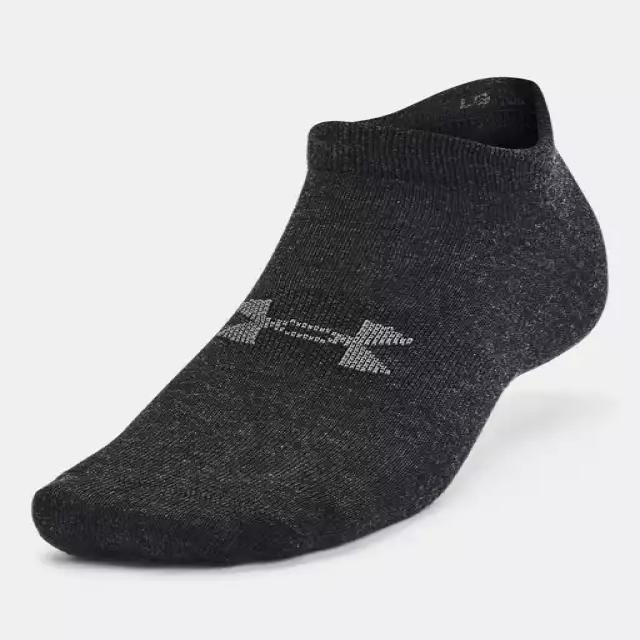sock: (30, 74, 609, 566)
